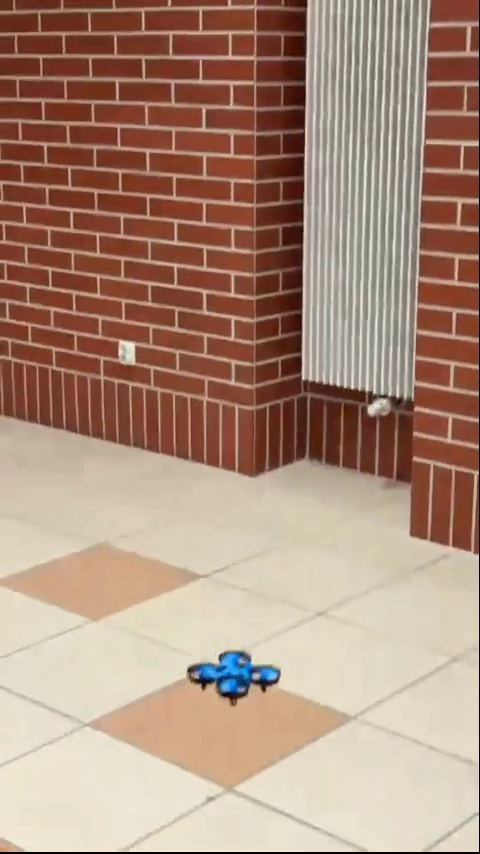drone: (186, 647, 276, 706)
